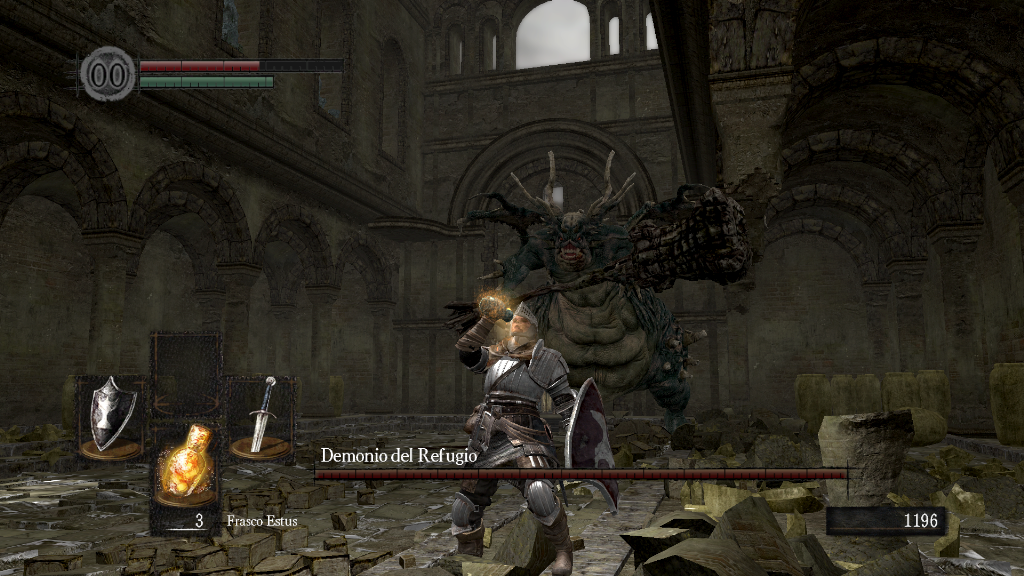asylumDemon: (446, 150, 751, 429)
bossHP: (314, 469, 847, 479)
health: (138, 58, 343, 71)
humanity: (80, 45, 136, 102)
player: (456, 297, 622, 576)
souls: (825, 506, 945, 536)
stamina: (138, 74, 274, 88)
